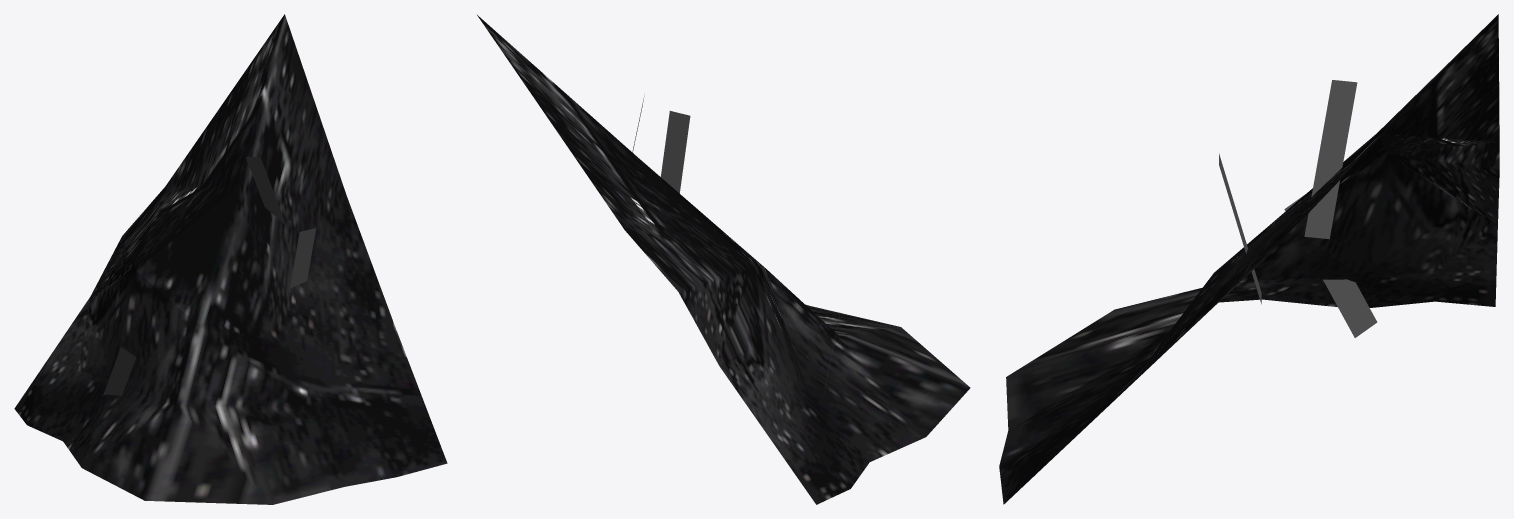
Rendered from Schmutzhaufen [Dachpappe]_1507.glb.
The picture shows the model from 3 angles, left to right: view 1: azimuth 30°, elevation 25°; view 2: azimuth 150°, elevation 25°; view 3: azimuth 270°, elevation 25°; orthographic projection. The views are drawn at different scales.
Parts seen in each view (by area): view 1: pPlaneShape18, pPlaneShape20, pPlaneShape19, pPlaneShape21; view 2: pPlaneShape18, pPlaneShape19; view 3: pPlaneShape18, pPlaneShape20, pPlaneShape21.
Boxes of the visible parts, x1,y1,x2,y2 form: pPlaneShape18: [14, 14, 447, 504]; pPlaneShape20: [246, 157, 286, 225]; pPlaneShape19: [290, 228, 315, 288]; pPlaneShape21: [103, 347, 135, 395]; pPlaneShape18: [477, 15, 970, 504]; pPlaneShape19: [660, 111, 690, 193]; pPlaneShape18: [999, 14, 1499, 504]; pPlaneShape20: [1304, 80, 1357, 239]; pPlaneShape21: [1284, 195, 1377, 337].
Size of the model in its own units: 0.1264 by 0.1407 by 0.1296.
4 materials, 1 textured.
